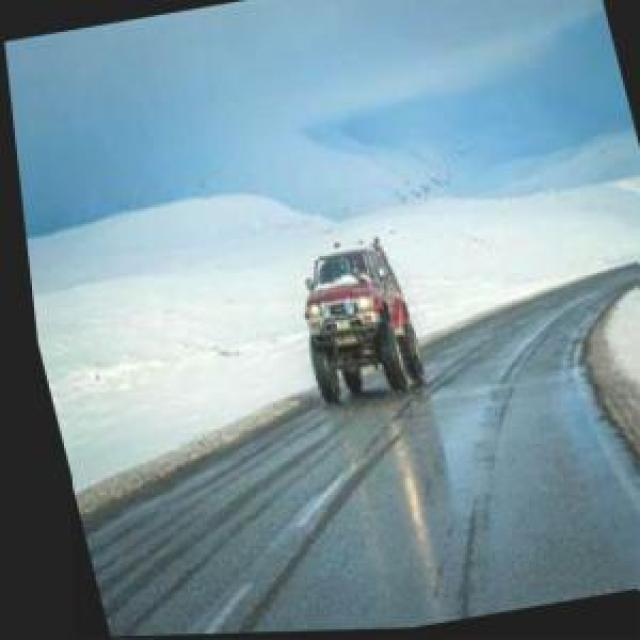ice-road: (74, 264, 638, 638)
